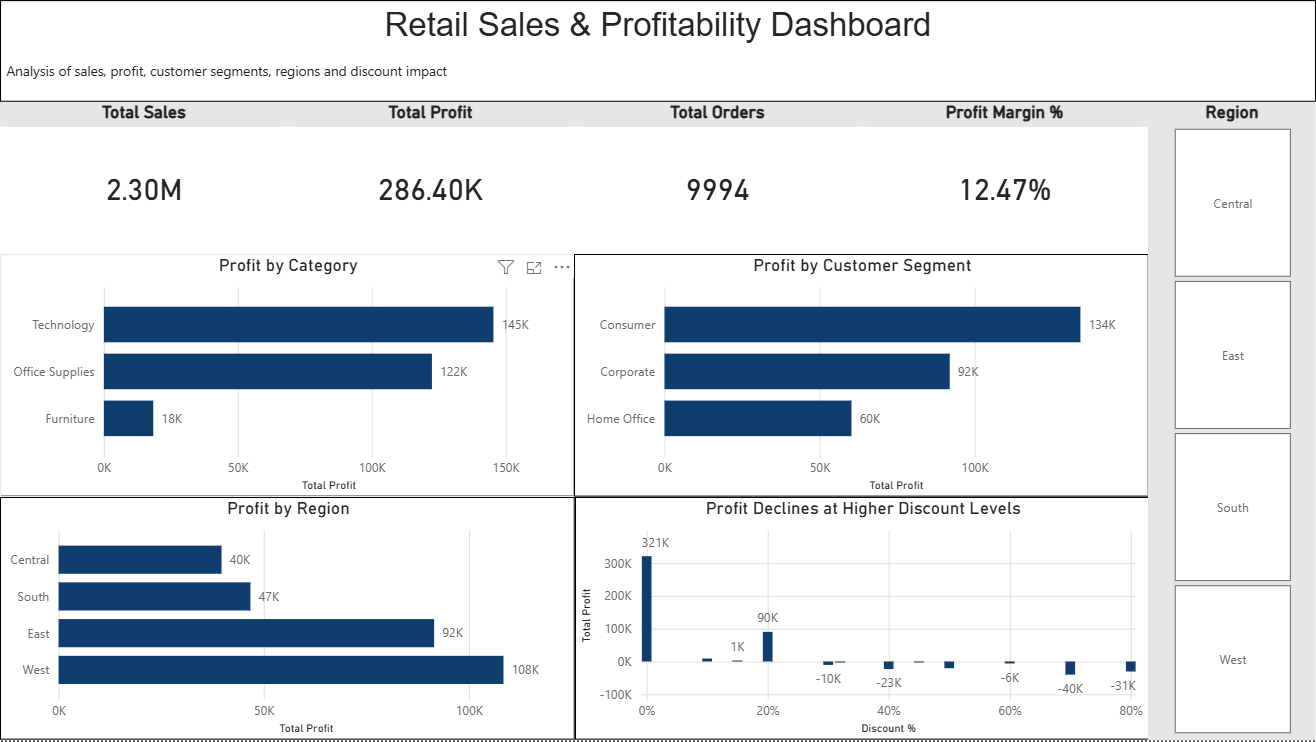

What the dashboard file says about the page in this screenshot:
{"tool":"powerbi","page":{"name":"Page 1","canvas":[1280,720],"ordinal":0},"visuals":[{"type":"card","title":"Total Sales","fields":{"Values":["orders.Total Sales"]},"box":[0,99.2,280.1,147.8],"z":0},{"type":"card","title":"Total Profit","fields":{"Values":["orders.Total Profit"]},"box":[279.1,99.2,279.1,147.8],"z":1000},{"type":"card","title":"Total Orders","fields":{"Values":["orders.Total Orders"]},"box":[558.3,99.2,279.1,147.8],"z":2000},{"type":"card","title":"Profit Margin %","fields":{"Values":["orders.Profit Margin %"]},"box":[837.4,99.2,279.1,147.8],"z":3000},{"type":"clusteredBarChart","title":"Profit by Category","fields":{"Category":["orders.Category"],"Y":["orders.Total Profit"]},"box":[0,247.1,559.3,236.4],"z":4000},{"type":"clusteredBarChart","title":"Profit by Customer Segment","fields":{"Category":["orders.Segment"],"Y":["orders.Total Profit"]},"box":[558.3,247.1,559.3,236.4],"z":5000},{"type":"clusteredBarChart","title":"Profit by Region","fields":{"Category":["orders.Region"],"Y":["orders.Total Profit"]},"box":[0,483.4,559.3,236.4],"z":6000},{"type":"clusteredColumnChart","title":"Profit Declines at Higher Discount Levels","fields":{"Category":["orders.Discount"],"Y":["orders.Total Profit"]},"box":[559.3,483.4,559.3,236.4],"z":7000},{"type":"slicer","title":"Region","fields":{"Values":["orders.Region"]},"box":[1116.6,99.2,163.4,620.5],"z":7001},{"type":"textbox","box":[0,0,1280,99.2],"z":7002}]}

Visuals, with their boxes in screenshot pixels (x1, y1, x2, y2), scaled from the page's 1280x720 canvas onto the 1316x742 screenshot:
"Total Sales" card: <region>0, 102, 288, 255</region>
"Total Profit" card: <region>287, 102, 574, 255</region>
"Total Orders" card: <region>574, 102, 861, 255</region>
"Profit Margin %" card: <region>861, 102, 1148, 255</region>
"Profit by Category" clusteredBarChart: <region>0, 255, 575, 498</region>
"Profit by Customer Segment" clusteredBarChart: <region>574, 255, 1149, 498</region>
"Profit by Region" clusteredBarChart: <region>0, 498, 575, 741</region>
"Profit Declines at Higher Discount Levels" clusteredColumnChart: <region>575, 498, 1150, 741</region>
"Region" slicer: <region>1148, 102, 1315, 741</region>
textbox: <region>0, 0, 1315, 102</region>
